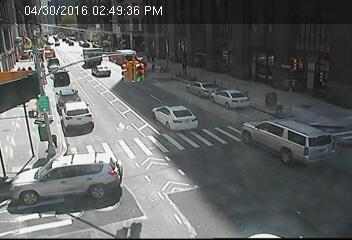neg: (11, 107, 42, 150), (99, 162, 124, 196), (170, 179, 195, 213), (120, 48, 145, 81), (158, 59, 183, 92), (151, 106, 175, 138), (91, 112, 115, 143), (195, 28, 218, 58), (218, 138, 239, 166), (305, 51, 326, 79), (261, 135, 281, 162), (54, 137, 74, 164), (54, 90, 74, 117), (306, 187, 326, 214), (250, 30, 269, 55), (241, 93, 259, 117), (282, 104, 299, 126), (256, 196, 271, 216), (210, 85, 224, 104)
